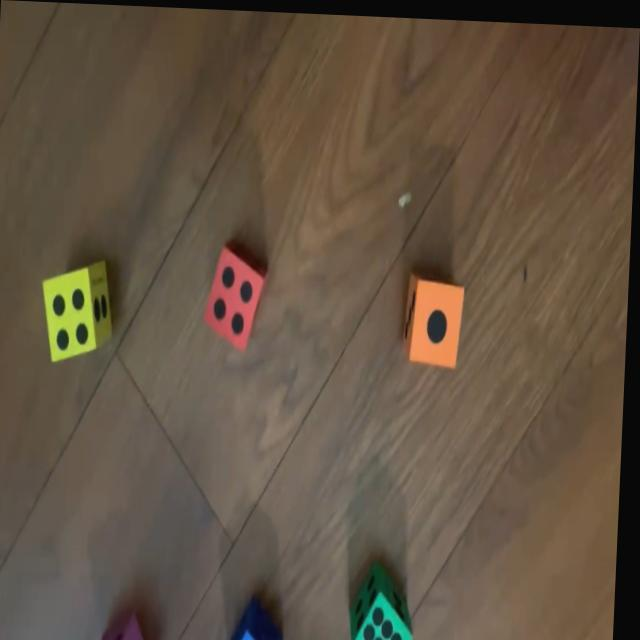blue_block: (231, 589, 291, 640)
red_block: (205, 237, 272, 348)
